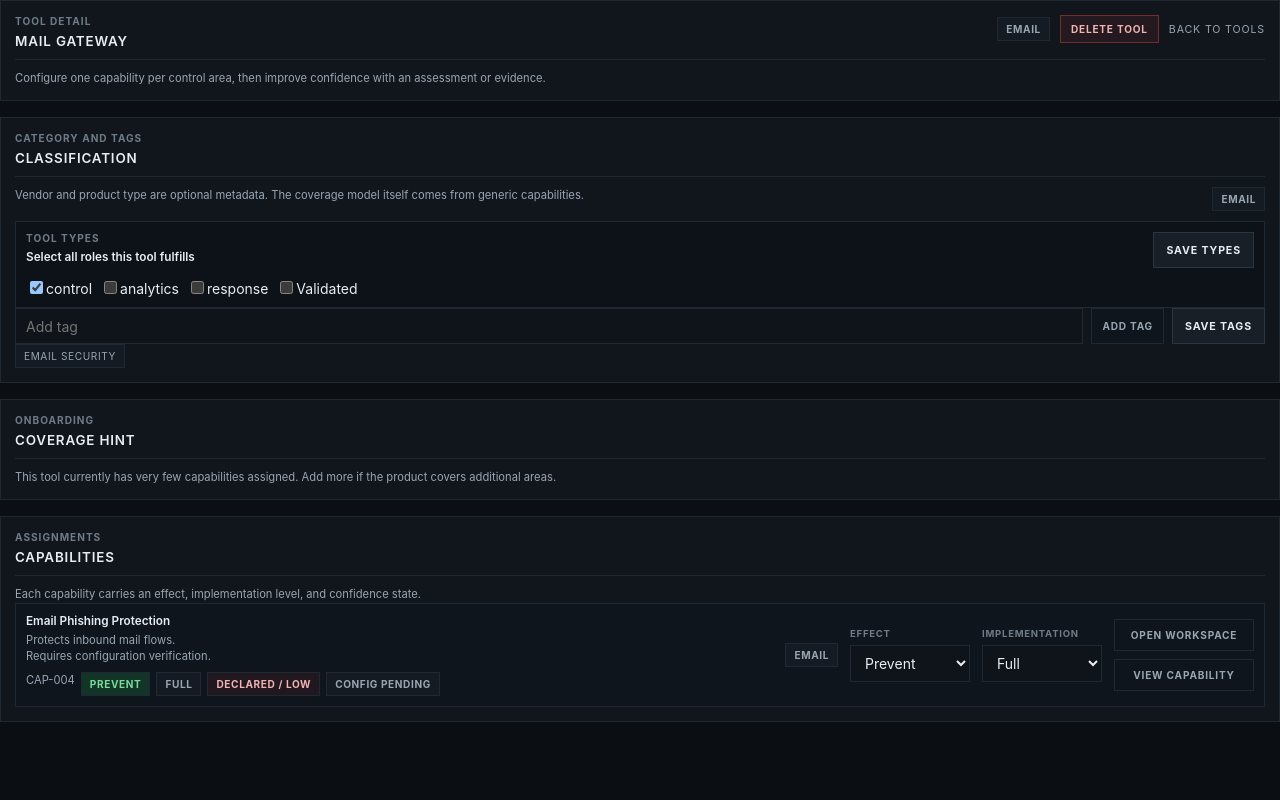
Test: ToolDetailPage › shows a visible error when the workspace detail fails to load
Click the button "Open workspace". click: (1184, 635)
box: [1114, 619, 1254, 651]
(page scrolled)
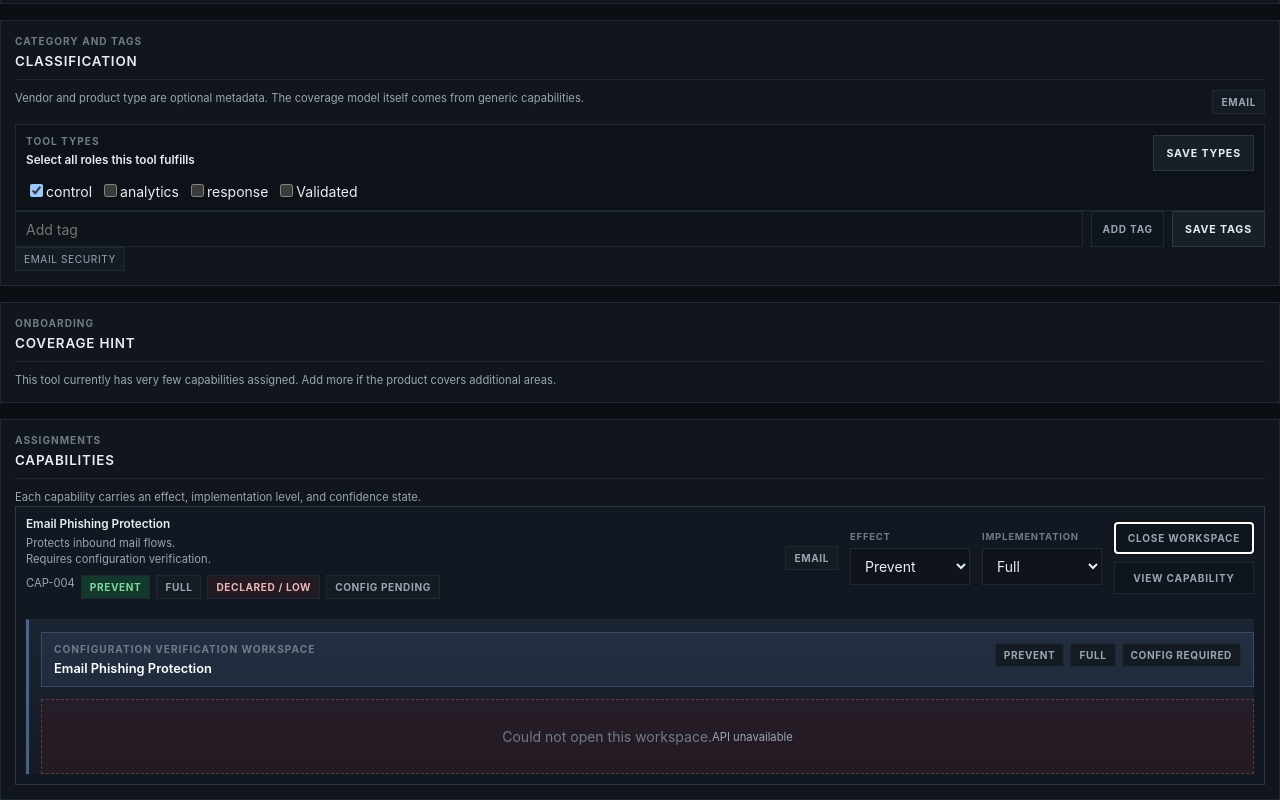
expect the text "Could not open this workspace." is shown: met, box [502, 728, 712, 745]
expect the text "API unavailable" is shown: met, box [712, 728, 793, 745]
